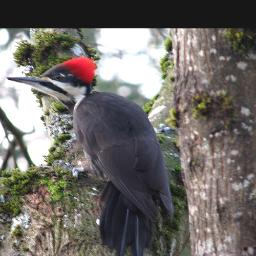Woodpecker: (3, 55, 182, 253)
